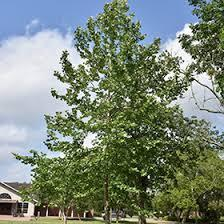tree: (43, 1, 182, 222)
